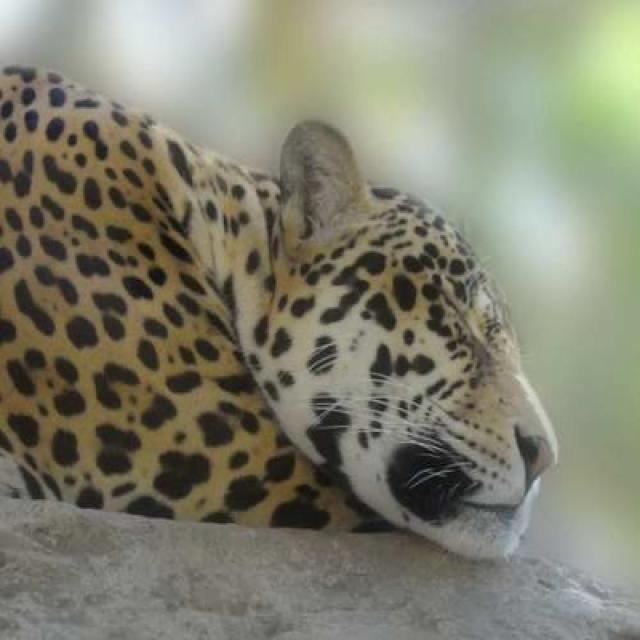Jaguar: (0, 64, 558, 563)
